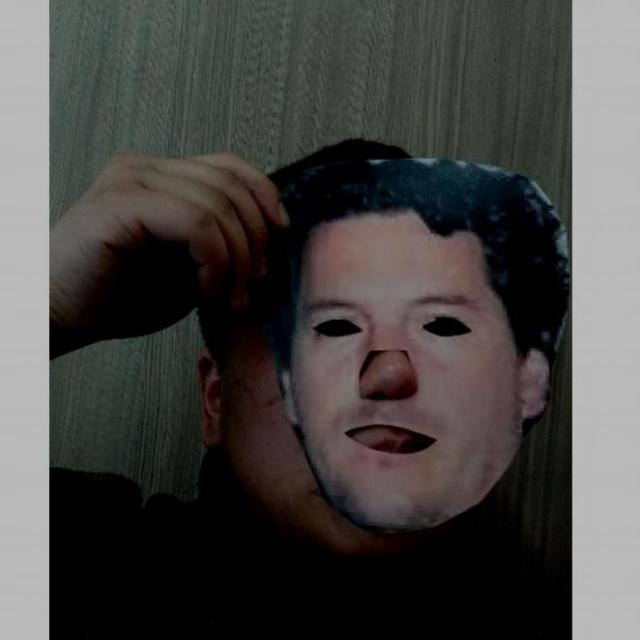mask: (242, 151, 570, 532)
